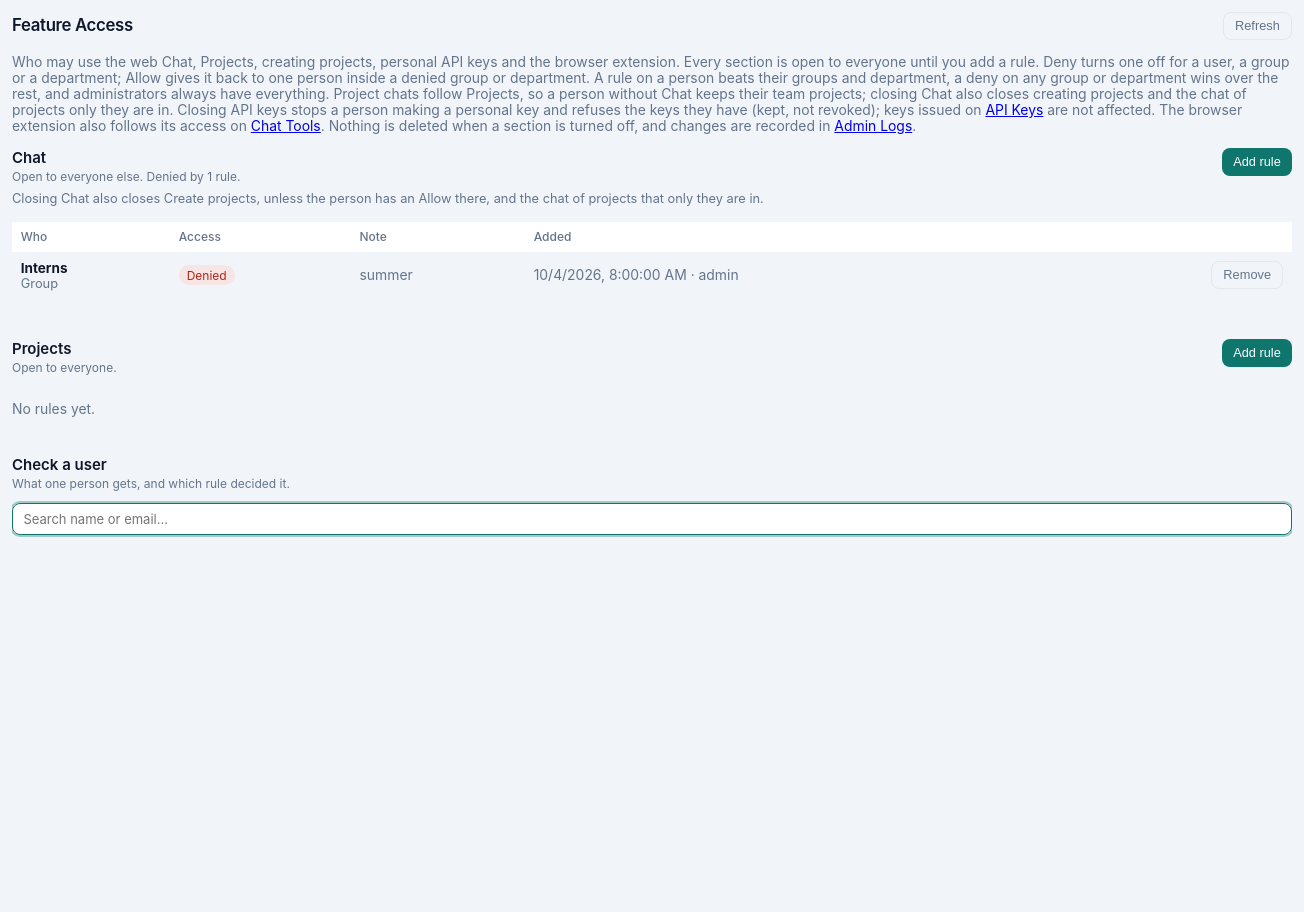
Test: adding for a user or a group, and checking a person › shows what a picked person gets and why
Focus the dropdown with id "feature-access-check-user" at (652, 520), box x1=12 y1=504 x2=1292 y2=536
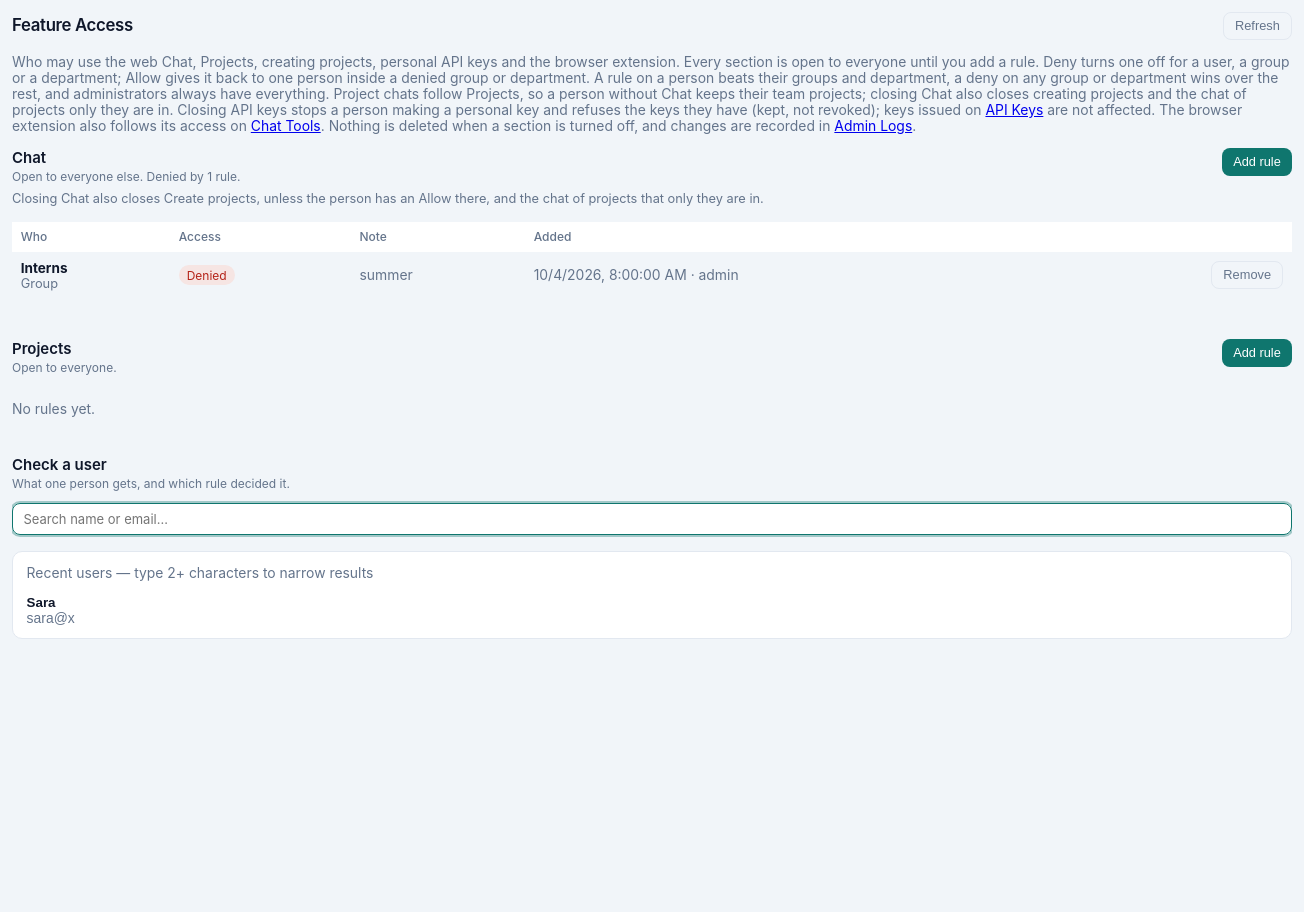
Click the button with class "user-owner-select__item" at (51, 618), box x1=21 y1=588 x2=1283 y2=632
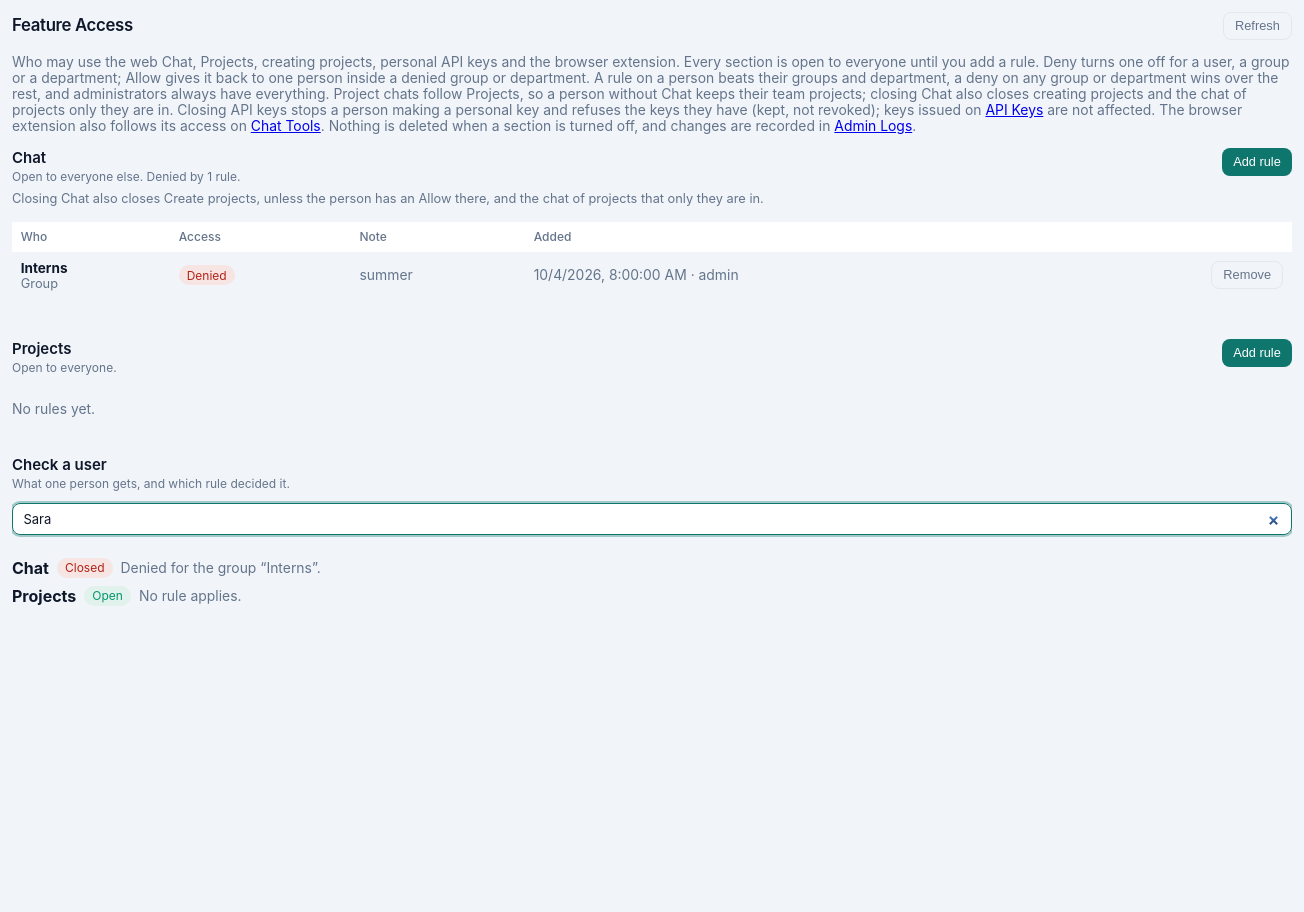
Result: the list with class "feature-access-check" shows "Closed" at x1=65 y1=560 x2=104 y2=575
Result: the list with class "feature-access-check" shows "Denied for the group “Interns”." at x1=120 y1=560 x2=321 y2=576
